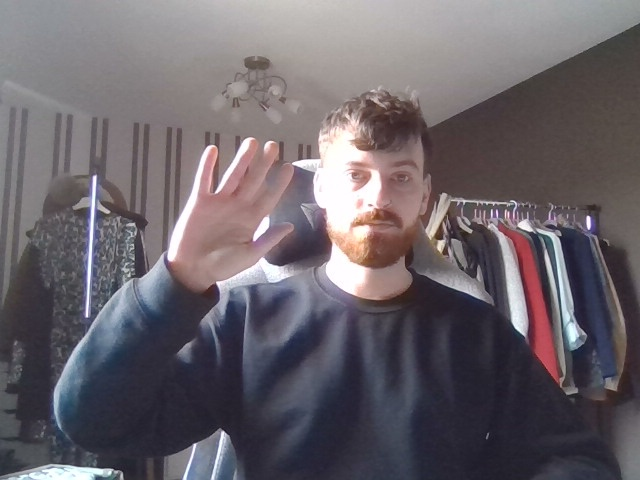Hello: (167, 128, 302, 306)
